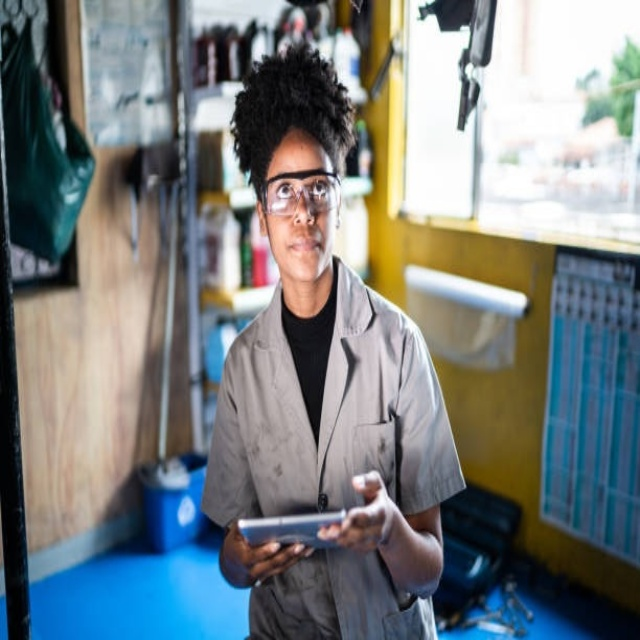Gafas: (259, 171, 344, 216)
Sin_guantes: (319, 464, 395, 553), (227, 519, 315, 589)
Sin_mascara: (282, 231, 328, 276)
